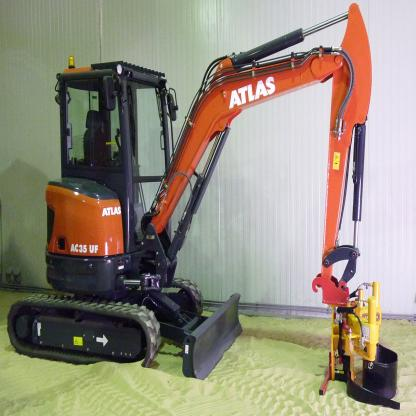excavator: (12, 12, 398, 406)
